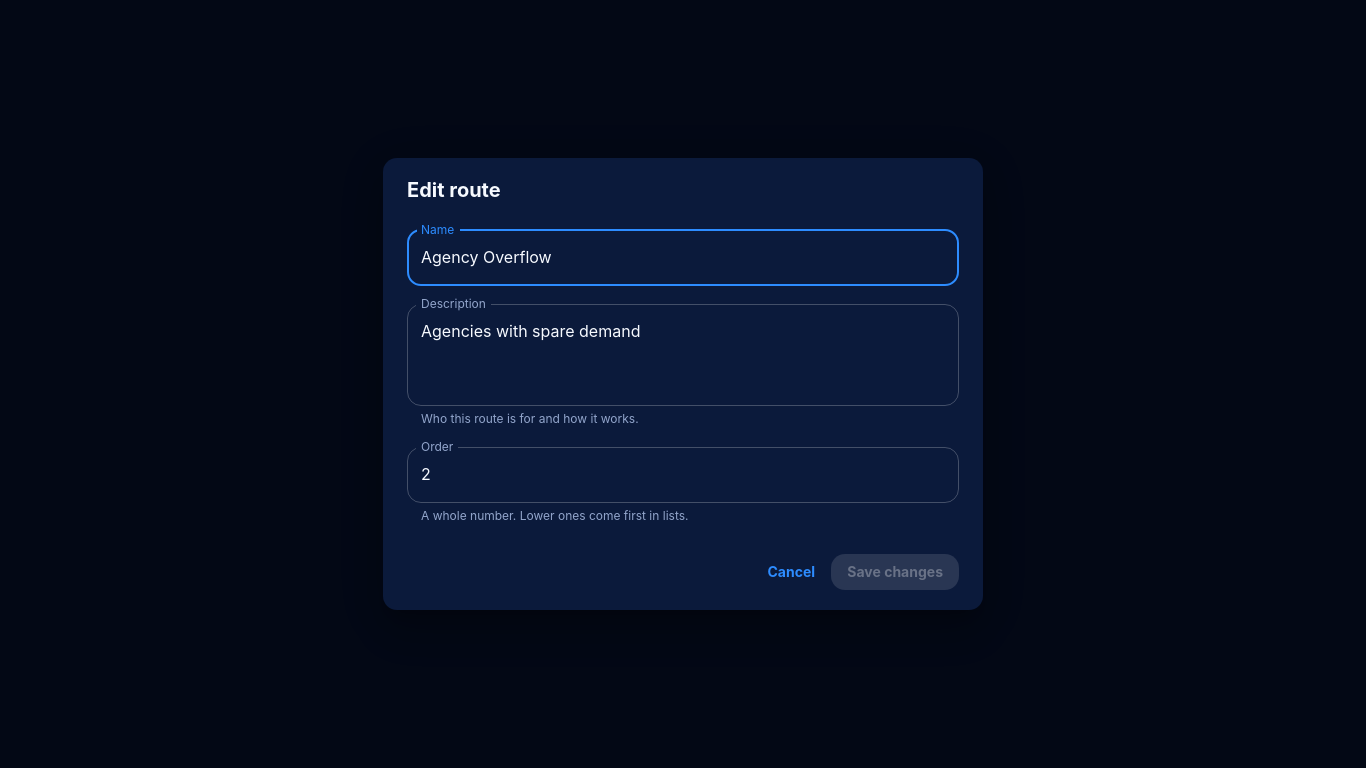
Scenario: RouteForm › explains a taken name in plain words and keeps what was typed
This screenshot has width=1366, height=768.
Replace the text in the field labelled "Name" with "Recruiters" at (683, 258), box [407,230,959,286]
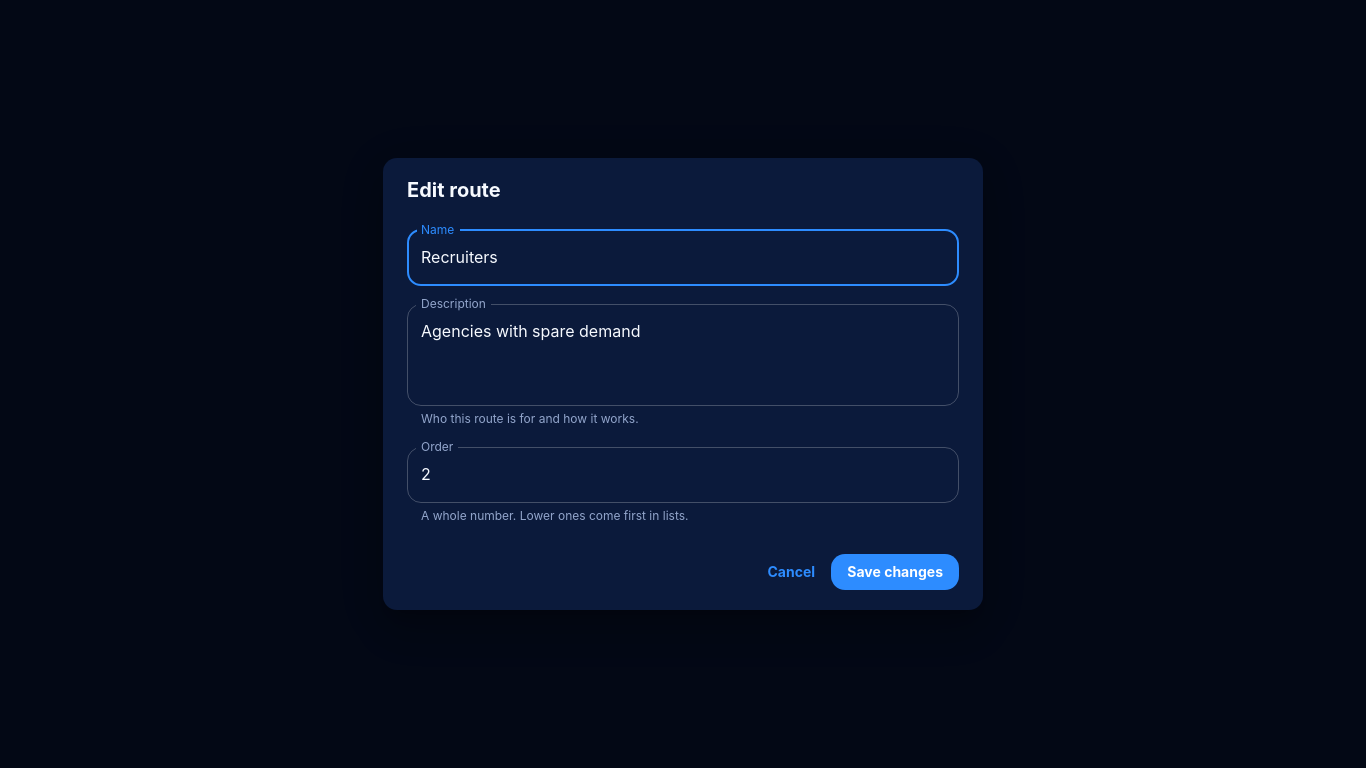
Click the button "Save changes" at (895, 572), box [831,554,959,590]
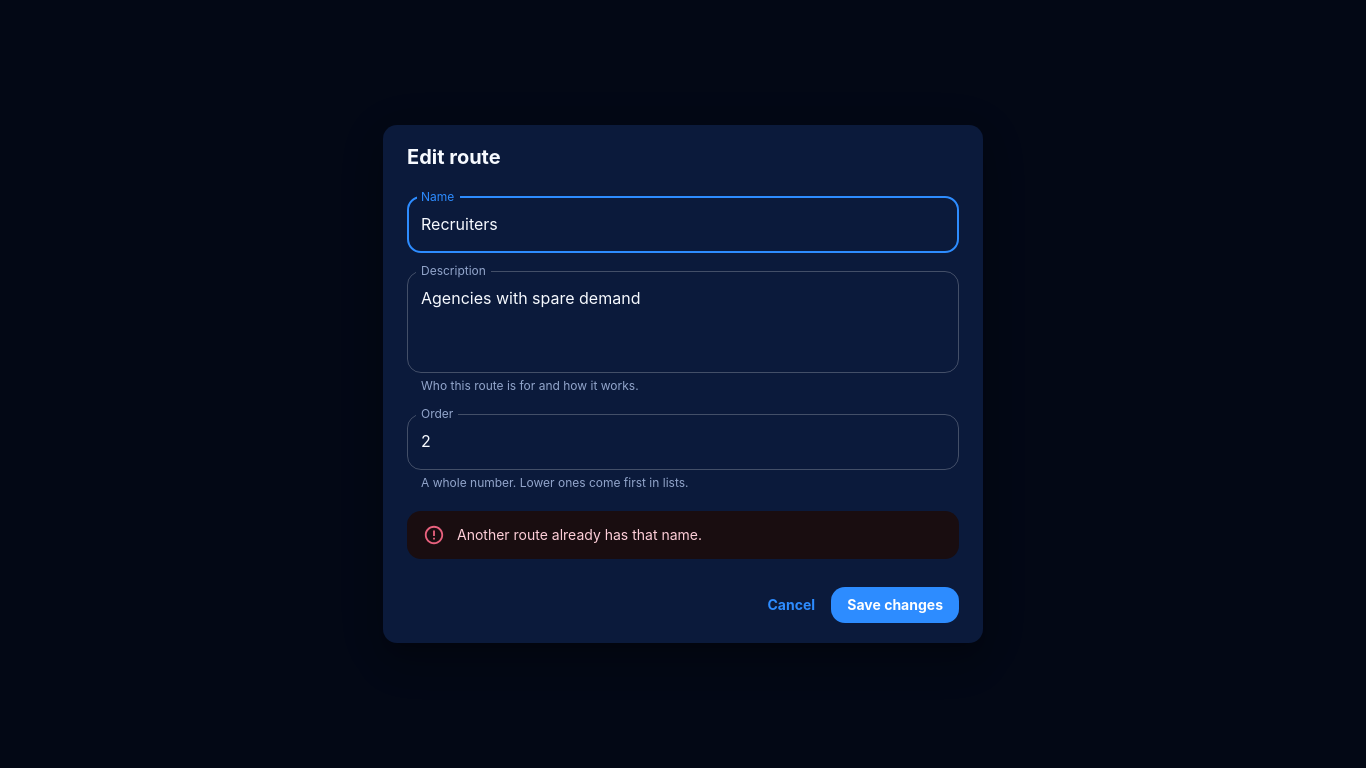
Check: the text "Another route already has that name." is shown, box [457,526,702,543]
